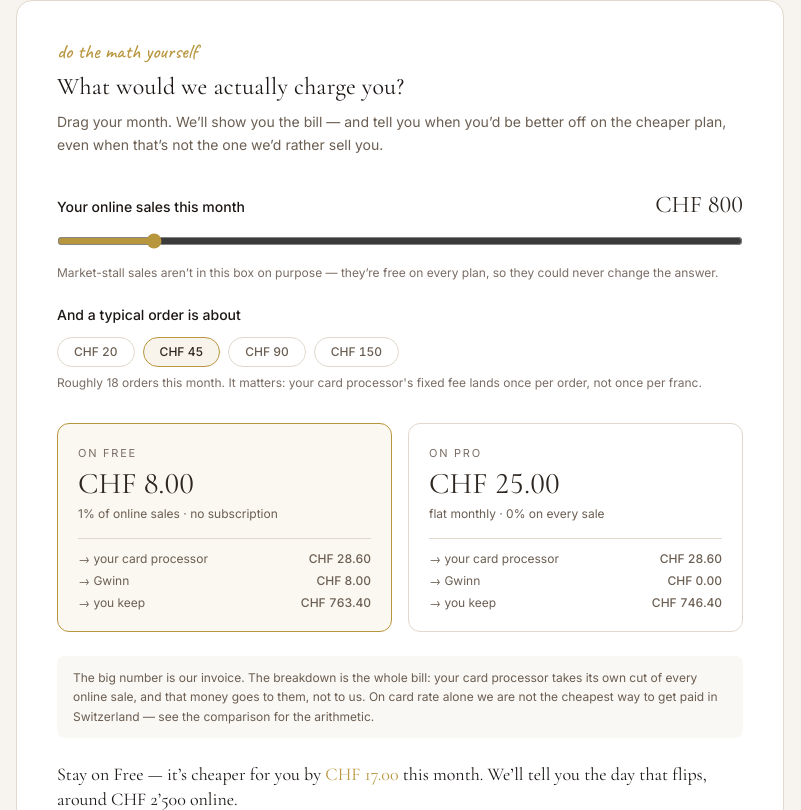
FeeCalculator — the whole bill, not just our slice › shows what the card processor takes alongside what Gwinn takes
Set the slider to "2000" at (288,241), box [57,233,743,249]
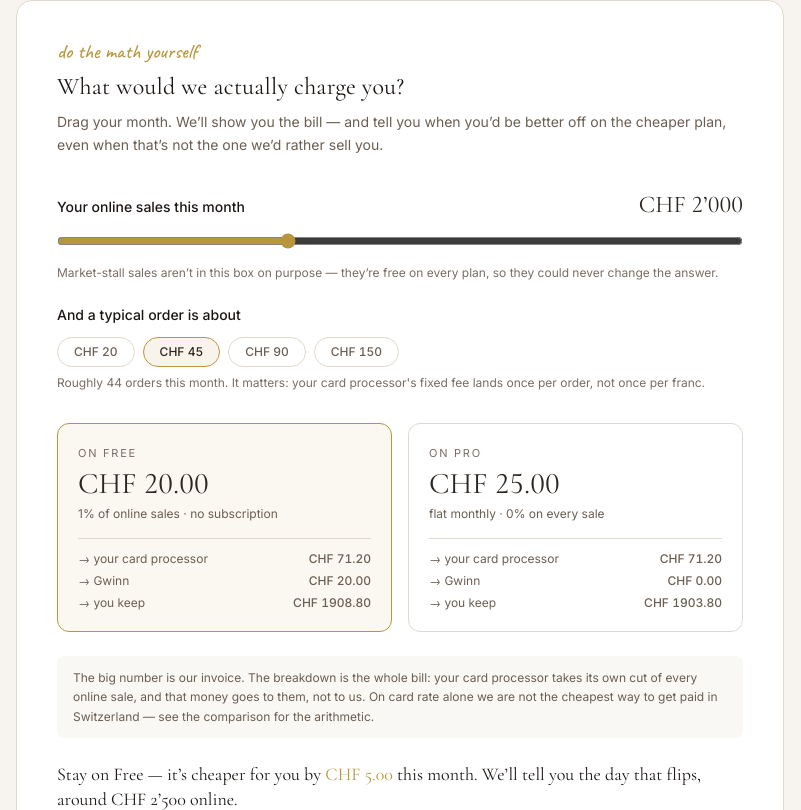
expect the text "CHF 71.20" below "1% of online sales · no subscription" is shown: met, box [309,551,371,566]
expect the 2nd text "CHF 20.00" is shown: met, box [309,573,371,589]
